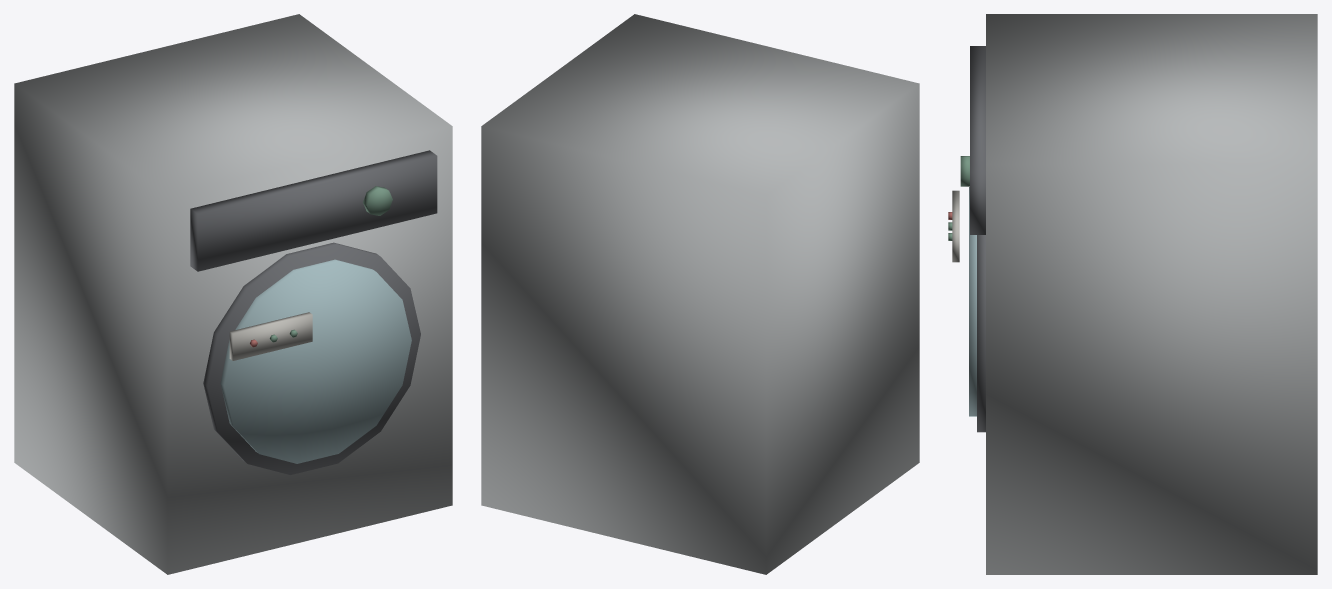
Rendered from industrial_washer.glb.
3 renders of one model, left to right at view 1: azimuth 30°, elevation 25°; view 2: azimuth 150°, elevation 25°; view 3: azimuth 270°, elevation 25°, orthographic. The views are drawn at different scales.
Parts seen in each view (by area): view 1: world; view 2: world; view 3: world.
Boxes of the visible parts, x1,y1,x2,y2 form: world: (14, 14, 452, 574); world: (481, 14, 919, 574); world: (948, 14, 1317, 574).
Size of the model in its own units: 0.88 by 1.12 by 0.9135.
